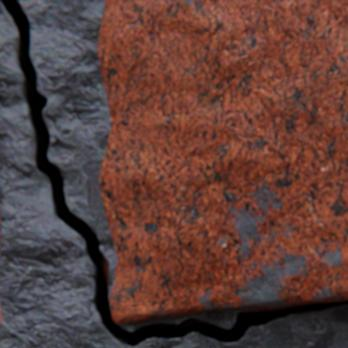brick: (98, 0, 347, 323), (0, 200, 1, 259), (0, 301, 2, 330)
crack: (0, 0, 347, 347)
